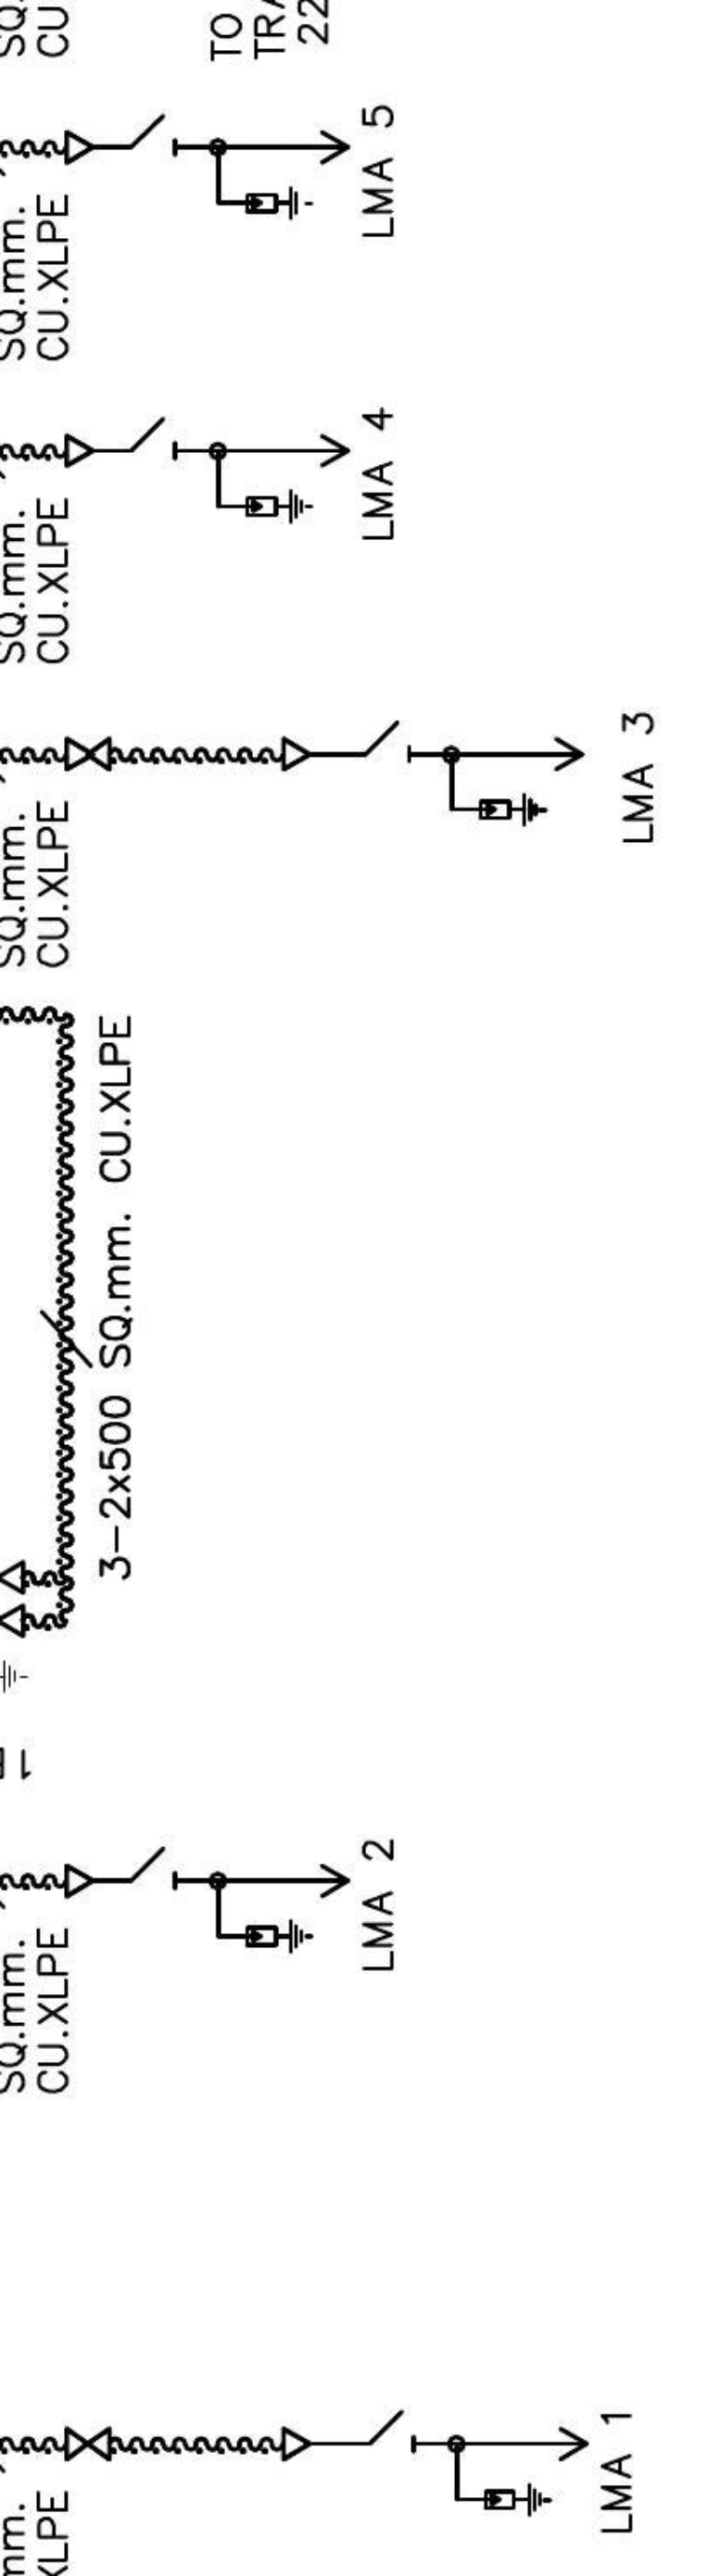22_ds_la_out: (368, 2408, 591, 2518), (130, 1845, 351, 1955), (130, 416, 351, 526), (363, 720, 586, 828), (130, 113, 351, 222)
terminator_single: (62, 128, 95, 168), (62, 1861, 95, 1901), (279, 2423, 312, 2463), (62, 432, 95, 470), (279, 734, 310, 774)
terminator_splicing_kits: (64, 2426, 112, 2463), (64, 736, 112, 772)
